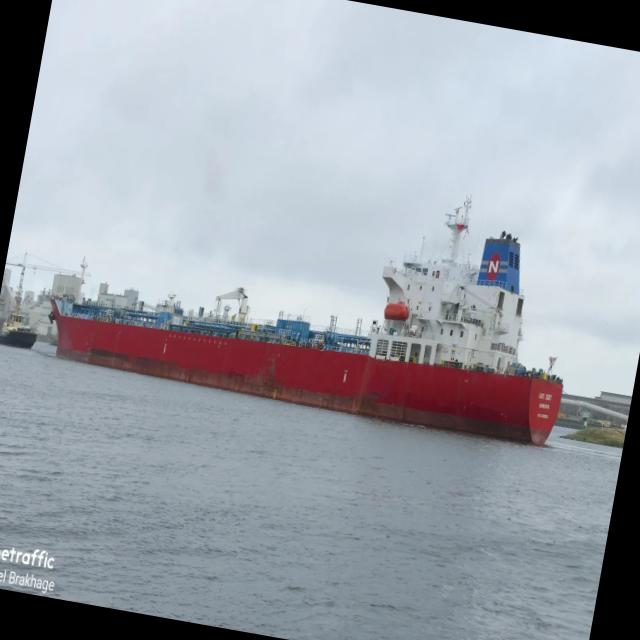Tanker: (48, 199, 562, 445)
